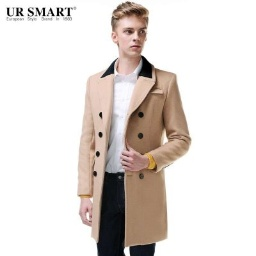face: (111, 1, 151, 63)
